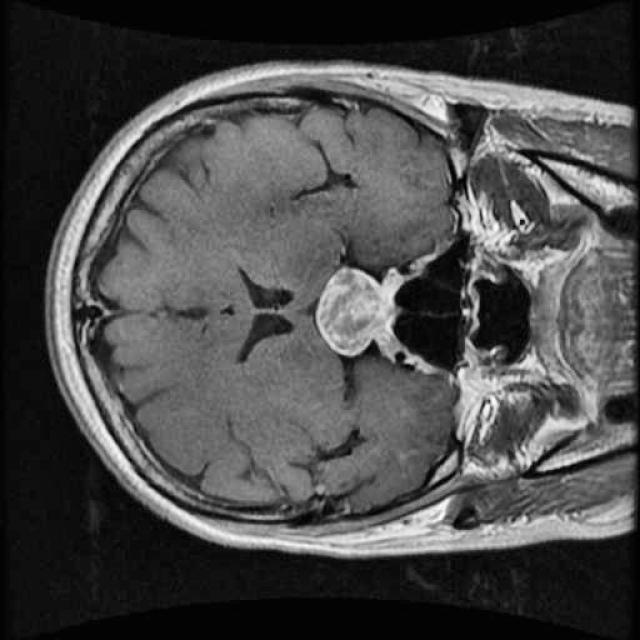Tumor: (309, 256, 411, 369)
